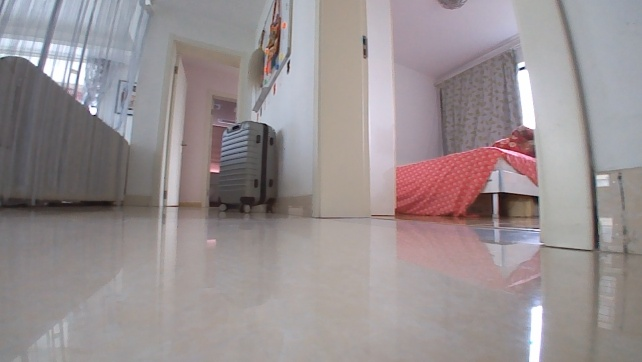bed1: (396, 144, 540, 217)
door_anno: (160, 52, 193, 208)
